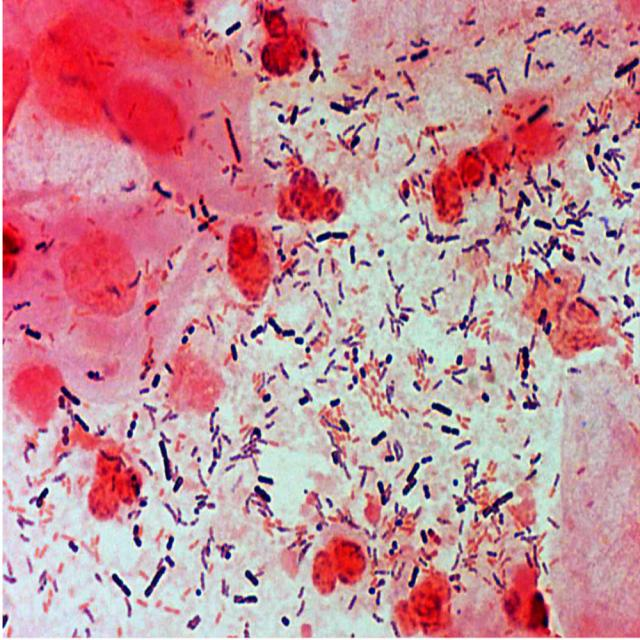Rod_bacteria: (3, 1, 639, 636)
